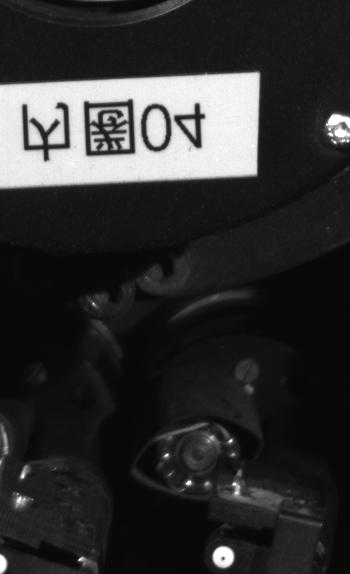fiber: (210, 540, 238, 574)
